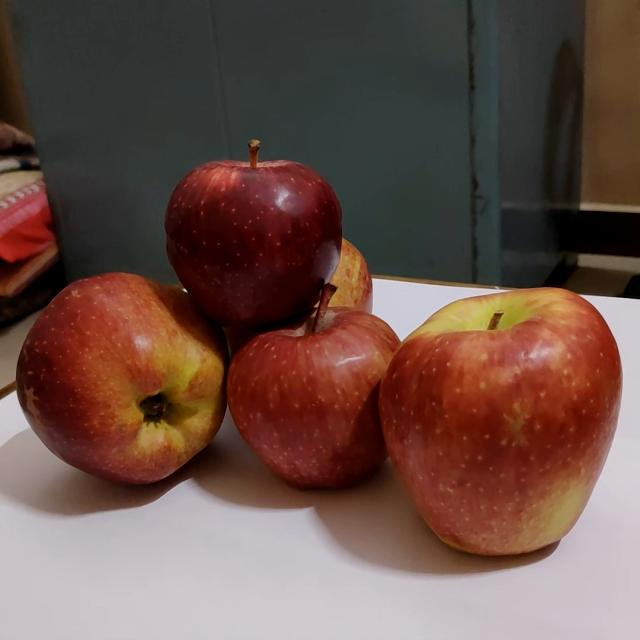apple: (385, 284, 633, 566), (19, 268, 234, 490), (232, 280, 410, 498), (168, 138, 352, 331), (310, 234, 380, 330)
